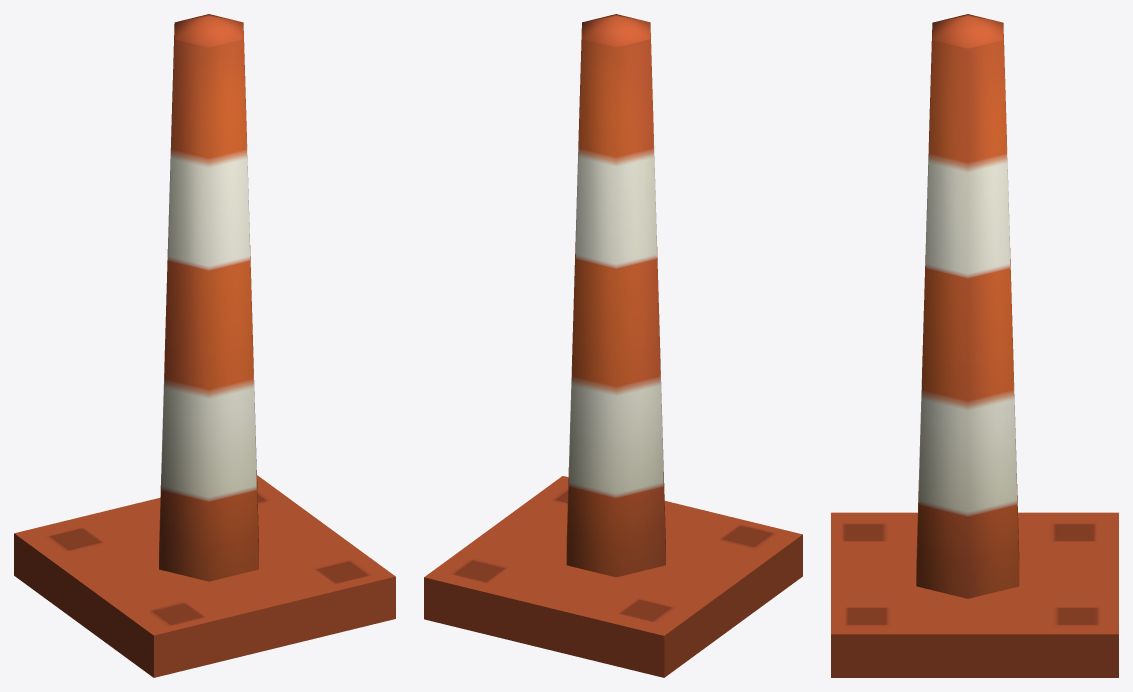
Rendered from conus_02.fbx.
The picture shows the model from 3 angles, left to right: view 1: azimuth 30°, elevation 25°; view 2: azimuth 150°, elevation 25°; view 3: azimuth 270°, elevation 25°; orthographic projection. The views are drawn at different scales.
Visible parts, largest first — view 1: conus_02; view 2: conus_02; view 3: conus_02.
Part boxes in pixels (bbox=[...]): conus_02: bbox=[14, 14, 395, 677]; conus_02: bbox=[424, 14, 802, 677]; conus_02: bbox=[831, 14, 1118, 677].
Bounding box in the file's own units: 1.11 × 2.55 × 1.11.
